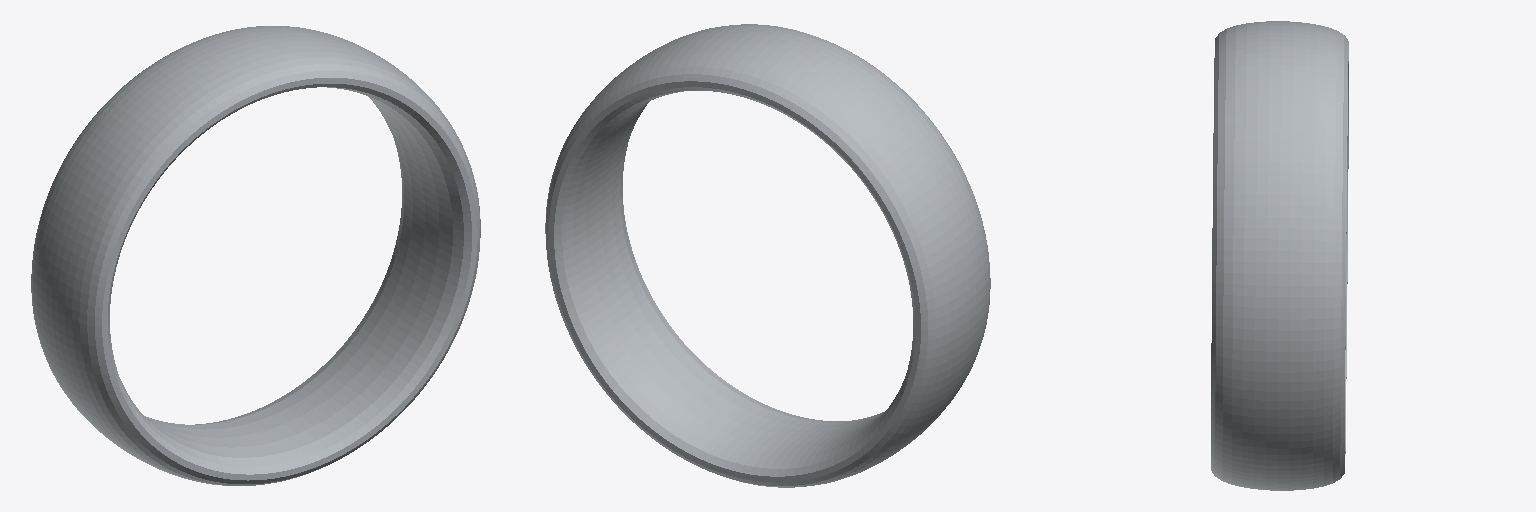
Rendered from ring.obj.
3 renders of one model, left to right at view 1: azimuth 30°, elevation 25°; view 2: azimuth 150°, elevation 25°; view 3: azimuth 270°, elevation 25°, orthographic.
Visible parts, largest first — view 1: Cylinder.001_Cylinder.000; view 2: Cylinder.001_Cylinder.000; view 3: Cylinder.001_Cylinder.000.
Part boxes in pixels (bbox=[...]): Cylinder.001_Cylinder.000: bbox=[31, 26, 480, 485]; Cylinder.001_Cylinder.000: bbox=[545, 24, 990, 487]; Cylinder.001_Cylinder.000: bbox=[1211, 21, 1348, 490].
Size of the model in its own units: 1 by 1 by 0.2943.